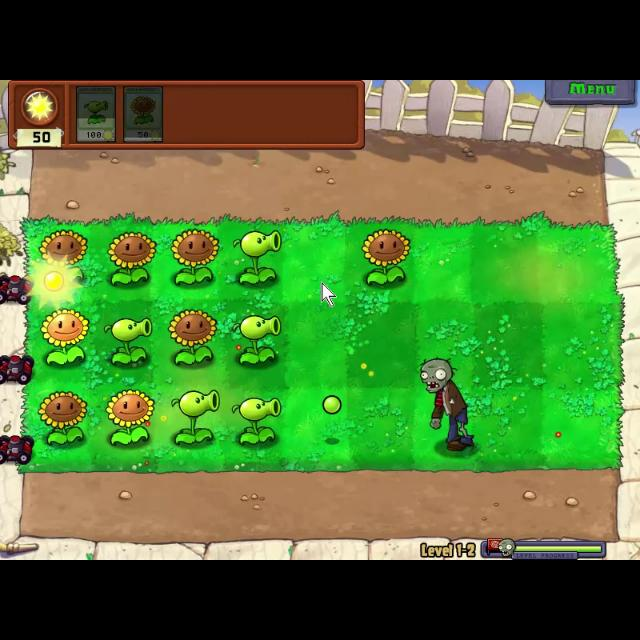Garden: (19, 216, 626, 474)
Menu Button: (541, 80, 635, 106)
Mower: (0, 350, 34, 386), (0, 429, 32, 465), (1, 273, 34, 305)
Peashooter: (76, 85, 118, 145)
Peashooter Seed: (168, 388, 220, 447), (228, 312, 284, 366), (228, 394, 284, 446), (228, 229, 278, 287), (102, 314, 152, 370)
Seed Panel: (7, 80, 367, 150)
Sun: (31, 257, 79, 305)
Sunflower: (120, 84, 163, 146)
Sunflower Seed: (102, 384, 160, 448), (358, 224, 414, 290), (35, 388, 89, 448), (40, 304, 89, 370), (167, 226, 219, 288), (36, 226, 88, 286), (168, 307, 218, 367), (103, 228, 153, 286)
Zombie: (415, 354, 479, 452)
